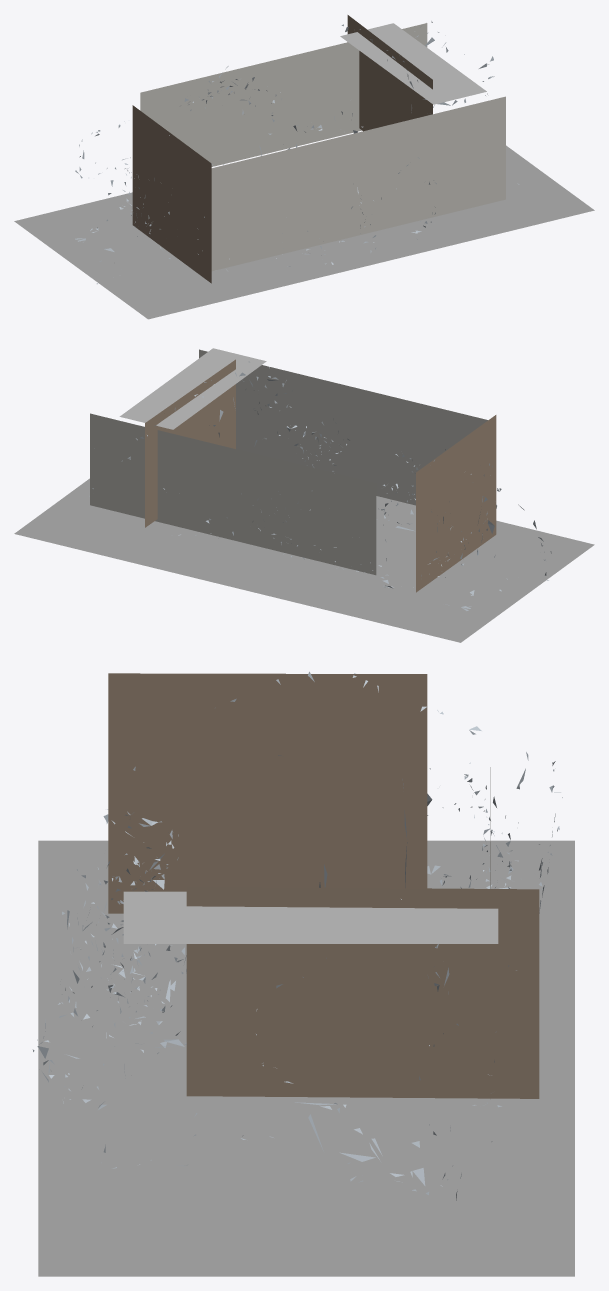
Rendered from garden_clean.glb.
3 renders of one model, top to bottom at view 1: azimuth 30°, elevation 25°; view 2: azimuth 150°, elevation 25°; view 3: azimuth 270°, elevation 25°, orthographic. The views are drawn at different scales.
Visible parts, largest first — view 1: plane_1_wall_(house_back), plane_0_ground, plane_2_wall_(house_back), plane_3_fence___side_wall, plane_4_fence___side_wall, plane_5_elevated_surface, ghost_reference; view 2: plane_0_ground, plane_2_wall_(house_back), plane_1_wall_(house_back), plane_3_fence___side_wall, plane_4_fence___side_wall, plane_5_elevated_surface, ghost_reference; view 3: plane_0_ground, plane_3_fence___side_wall, plane_4_fence___side_wall, plane_5_elevated_surface, ghost_reference.
Boxes of the visible parts, <box> form: plane_1_wall_(house_back): <box>211,96,505,271</box>; plane_0_ground: <box>14,145,594,319</box>; plane_2_wall_(house_back): <box>140,23,427,166</box>; plane_3_fence___side_wall: <box>132,105,211,283</box>; plane_4_fence___side_wall: <box>347,15,432,131</box>; plane_5_elevated_surface: <box>340,23,486,104</box>; ghost_reference: <box>75,21,519,284</box>; plane_0_ground: <box>14,478,594,642</box>; plane_2_wall_(house_back): <box>90,413,376,575</box>; plane_1_wall_(house_back): <box>199,349,487,505</box>; plane_3_fence___side_wall: <box>416,415,496,592</box>; plane_4_fence___side_wall: <box>145,359,235,527</box>; plane_5_elevated_surface: <box>119,348,266,429</box>; ghost_reference: <box>89,361,551,610</box>; plane_0_ground: <box>38,840,574,1276</box>; plane_3_fence___side_wall: <box>108,673,427,913</box>; plane_4_fence___side_wall: <box>186,886,539,1098</box>; plane_5_elevated_surface: <box>123,891,498,943</box>; ghost_reference: <box>32,671,562,1200</box>.
Bounding box in the file's own units: 12.04 × 3.81 × 6.28.
